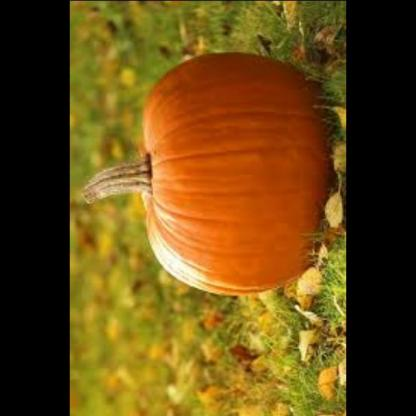pumpkin: (135, 47, 330, 300)
